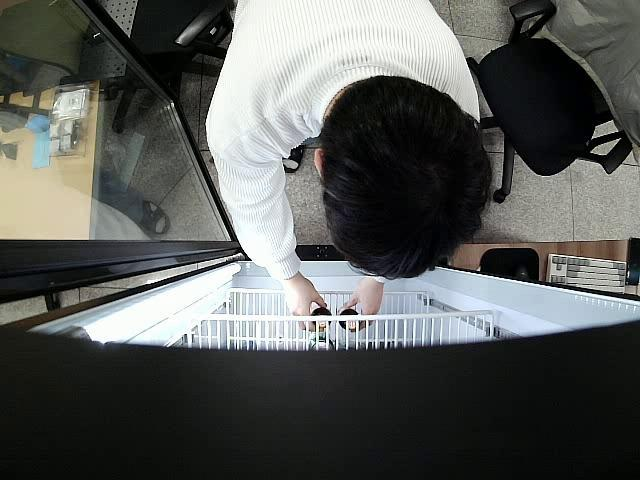17_vita500: (339, 306, 362, 332), (312, 308, 331, 331)
